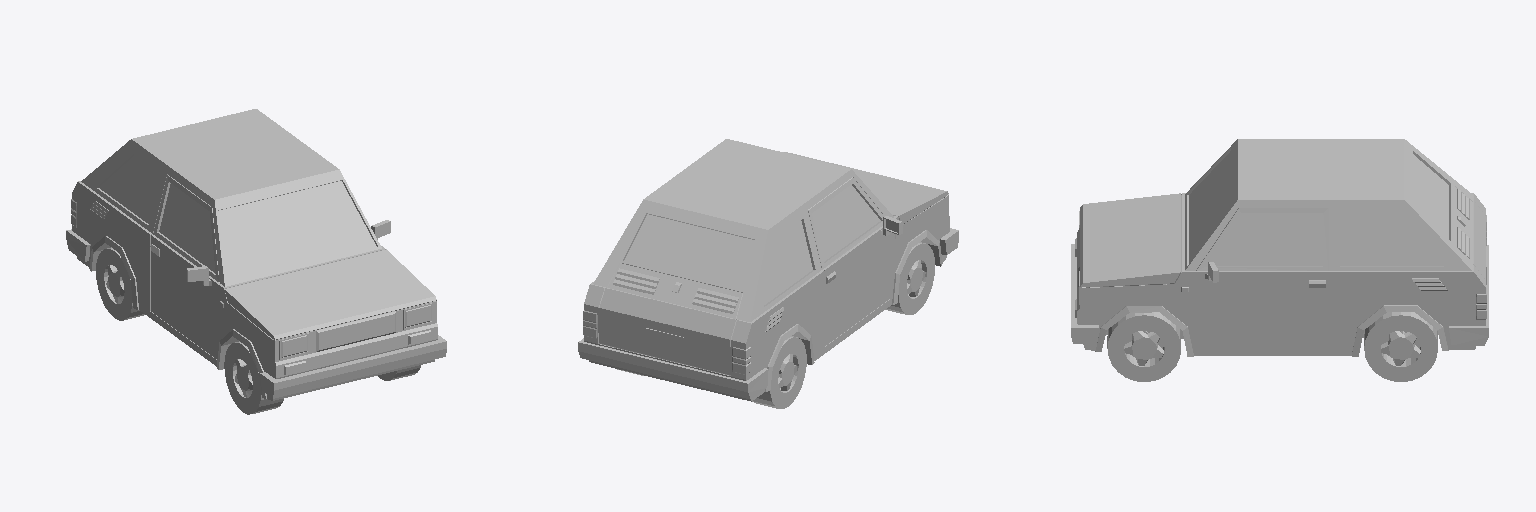
Rendered from car.obj.
The picture shows the model from 3 angles: view 1: azimuth 30°, elevation 25°; view 2: azimuth 150°, elevation 25°; view 3: azimuth 270°, elevation 25°; orthographic projection.
Parts seen in each view (by area): view 1: WINDOWS.003; view 2: WINDOWS.003; view 3: WINDOWS.003.
Part boxes in pixels (x1,y1,x2,y2): WINDOWS.003: (66, 109, 446, 414); WINDOWS.003: (578, 139, 958, 408); WINDOWS.003: (1071, 139, 1488, 381).
Size of the model in its own units: 1.69 by 1.38 by 3.02.